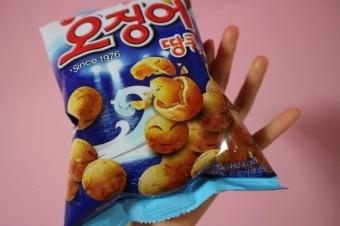snack: (37, 0, 289, 226)
